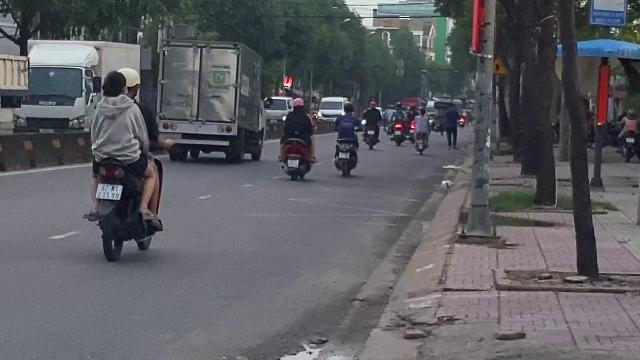helmet: (119, 67, 141, 99)
licenseplate: (96, 183, 122, 199)
motorcyclist: (80, 66, 168, 262)
nohelmet: (100, 70, 128, 99)
